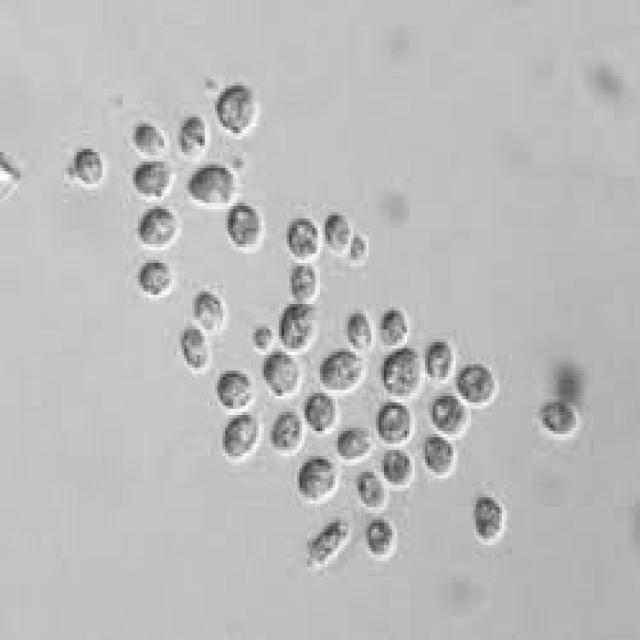Green Algae: (210, 82, 258, 133), (190, 162, 238, 206), (279, 304, 323, 352), (384, 349, 425, 396), (307, 520, 348, 567), (532, 393, 578, 434), (128, 114, 169, 158), (228, 200, 264, 250), (297, 460, 340, 500), (422, 431, 458, 478), (430, 390, 471, 431), (320, 348, 361, 389), (458, 362, 499, 402), (266, 348, 302, 393), (474, 491, 504, 545), (376, 399, 412, 444), (271, 409, 305, 456), (136, 256, 174, 298), (174, 330, 213, 370), (223, 415, 261, 456), (174, 108, 207, 155), (195, 288, 225, 339), (215, 364, 251, 406), (136, 209, 179, 244), (69, 146, 105, 187), (287, 212, 317, 260), (379, 444, 415, 484), (130, 162, 176, 193), (322, 206, 350, 253), (333, 425, 374, 456), (381, 301, 407, 349), (364, 516, 394, 554), (346, 307, 371, 352), (430, 336, 453, 380), (289, 263, 315, 301), (361, 469, 384, 504), (251, 323, 271, 349)
